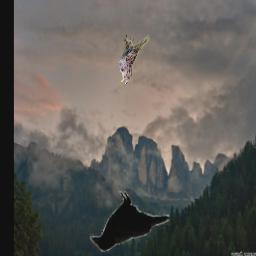Crow: (88, 192, 169, 255)
Sparrow: (118, 23, 149, 85)
